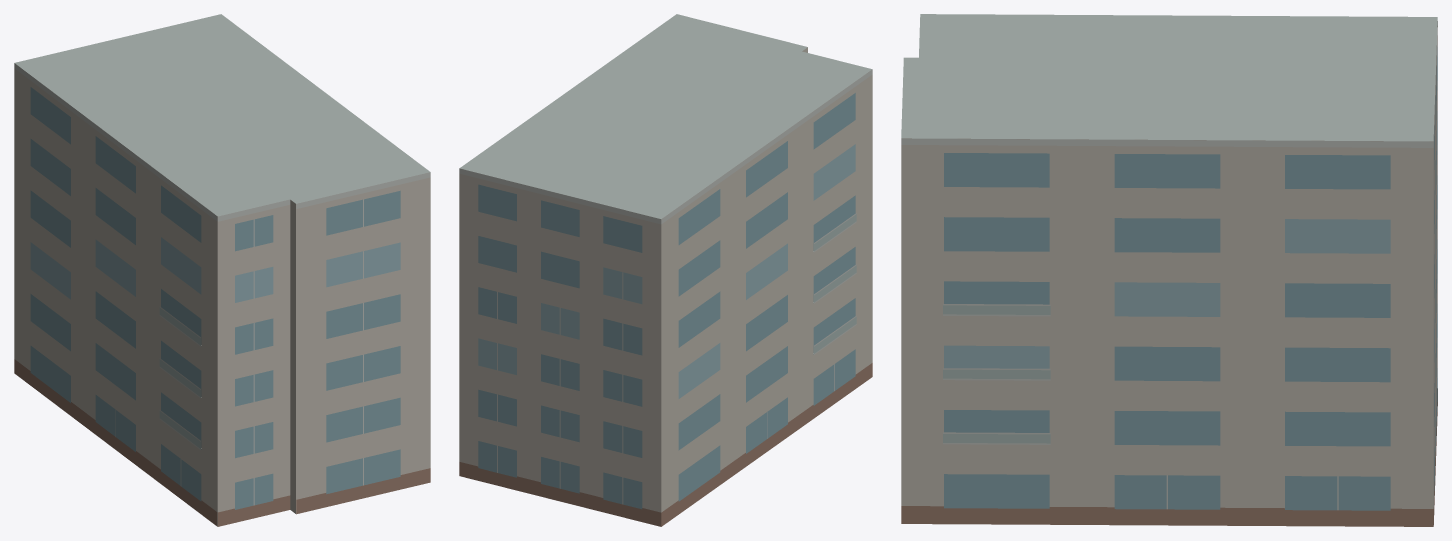
Rendered from survey-upis-32907125.glb.
The picture shows the model from 3 angles, left to right: view 1: azimuth 30°, elevation 25°; view 2: azimuth 150°, elevation 25°; view 3: azimuth 270°, elevation 25°; orthographic projection. The views are drawn at different scales.
Visible parts, largest first — view 1: survey-upis-32907125.tmp; view 2: survey-upis-32907125.tmp; view 3: survey-upis-32907125.tmp.
Part boxes in pixels (box(x1,y1,x2,y2)): survey-upis-32907125.tmp: box(14, 14, 430, 526); survey-upis-32907125.tmp: box(459, 14, 872, 526); survey-upis-32907125.tmp: box(901, 14, 1437, 526).
Size of the model in its own units: 10.21 by 14.37 by 18.14.
